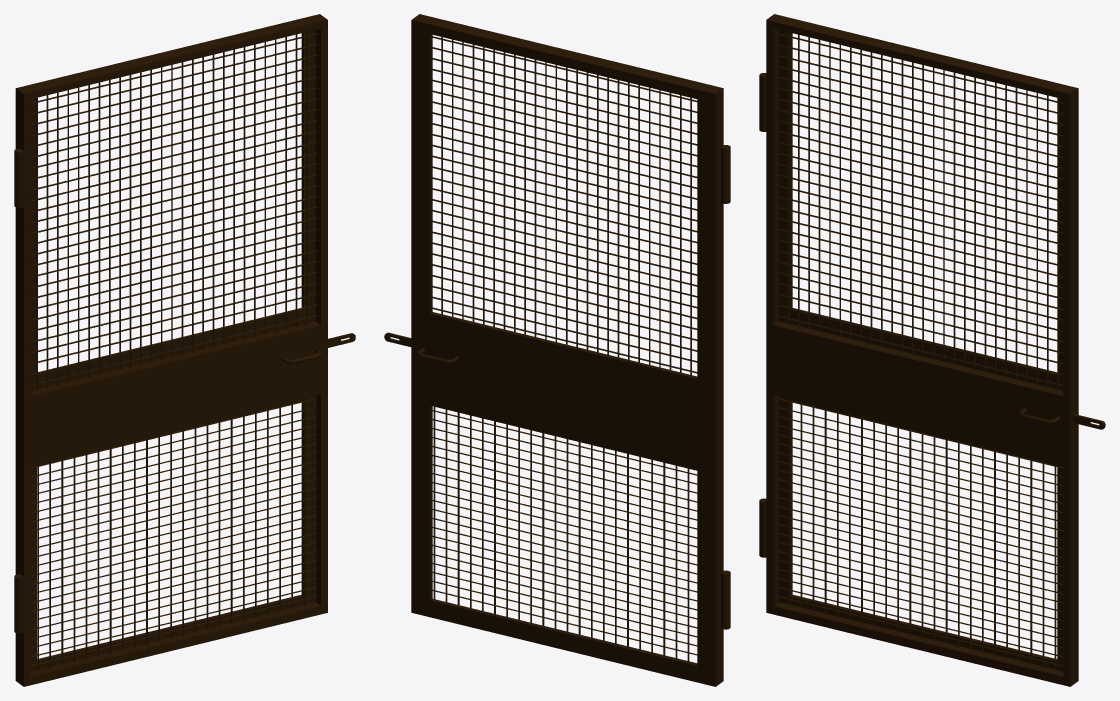
Rendered from dzi_z_kratom.fbx.
3 views of the same model, side by side, from view 1: azimuth 30°, elevation 25°; view 2: azimuth 150°, elevation 25°; view 3: azimuth 330°, elevation 25° (orthographic).
Parts seen in each view (by area): view 1: Cylinder.001; view 2: Cylinder.001; view 3: Cylinder.001.
Boxes of the visible parts, x1=… form: Cylinder.001: x1=14, y1=14, x2=355, y2=686; Cylinder.001: x1=384, y1=14, x2=730, y2=686; Cylinder.001: x1=759, y1=14, x2=1105, y2=686.
Size of the model in its own units: 225 by 373 by 26.06.
